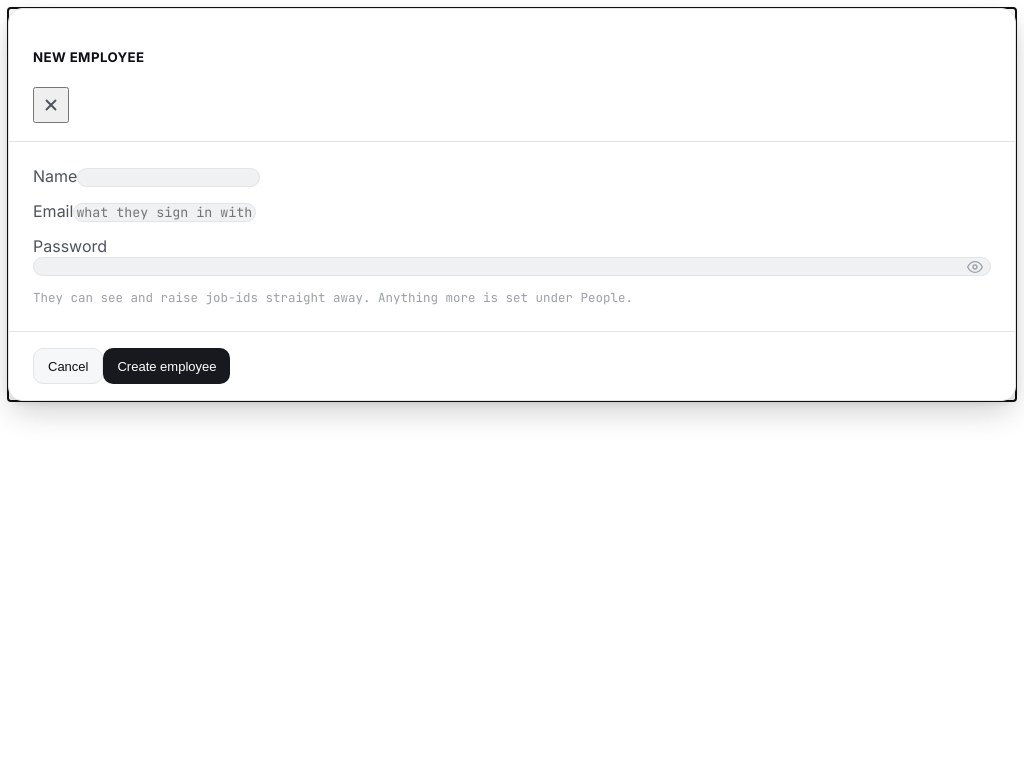
Test: QuickCreateEmployeeModal › refuses an empty name
Click the button "Create employee" at {"x": 167, "y": 366}, box [104,348,230,384]
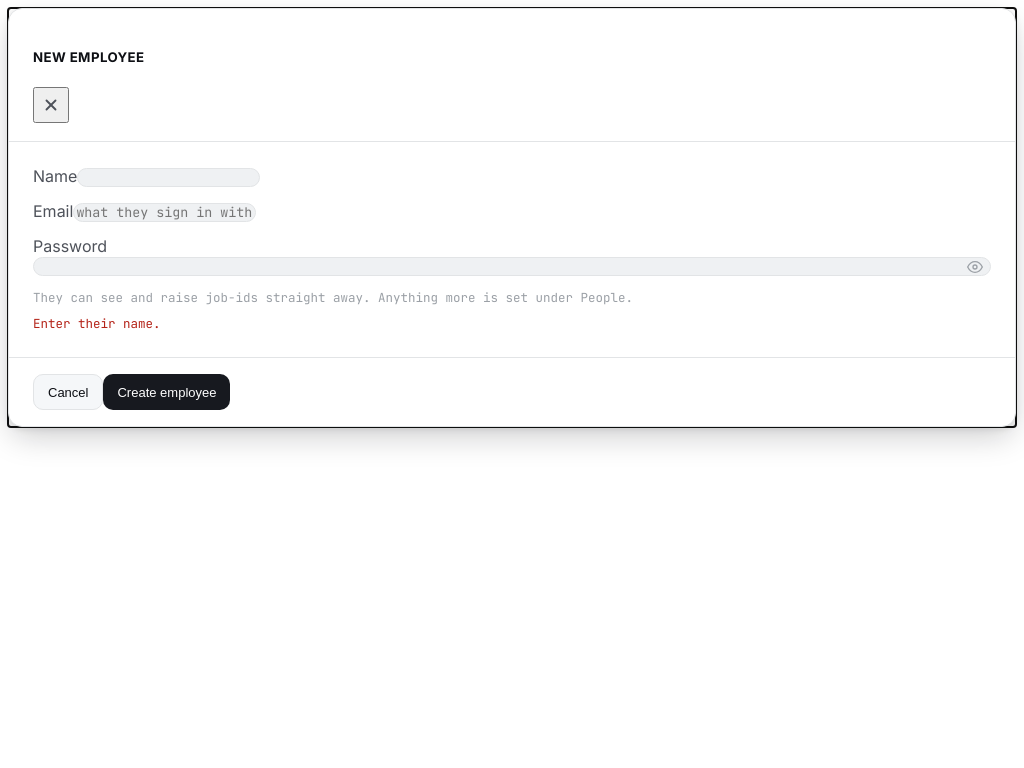
Now the text "Enter their name." is shown, box [33,315,160,332]
